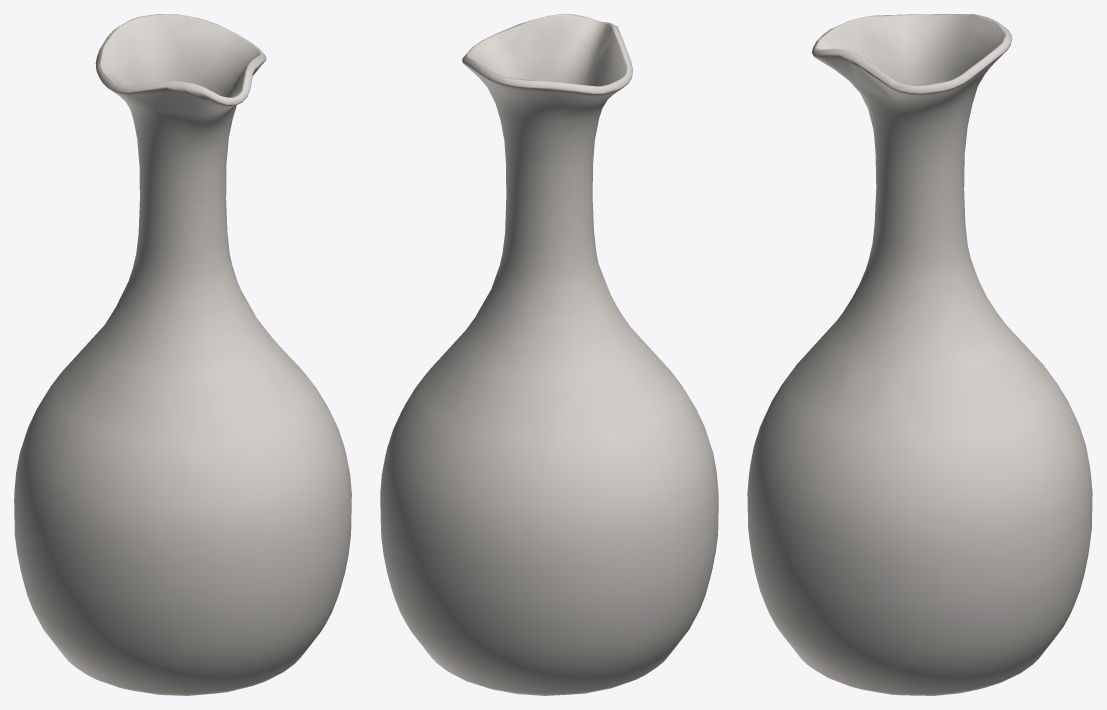
Rendered from ceramic-vase-wide-low.glb.
The picture shows the model from 3 angles, left to right: view 1: azimuth 30°, elevation 25°; view 2: azimuth 150°, elevation 25°; view 3: azimuth 270°, elevation 25°; orthographic projection. The views are drawn at different scales.
Visible parts, largest first — view 1: ceramic_vase_01; view 2: ceramic_vase_01; view 3: ceramic_vase_01.
Boxes of the visible parts, left/top/right/bottom form: ceramic_vase_01: left=14, top=14, right=351, bottom=695; ceramic_vase_01: left=380, top=14, right=718, bottom=695; ceramic_vase_01: left=747, top=14, right=1092, bottom=695.
Bounding box in the file's own units: 0.2034 × 0.4003 × 0.2034.
Materials: 1 (1 with a texture image).
